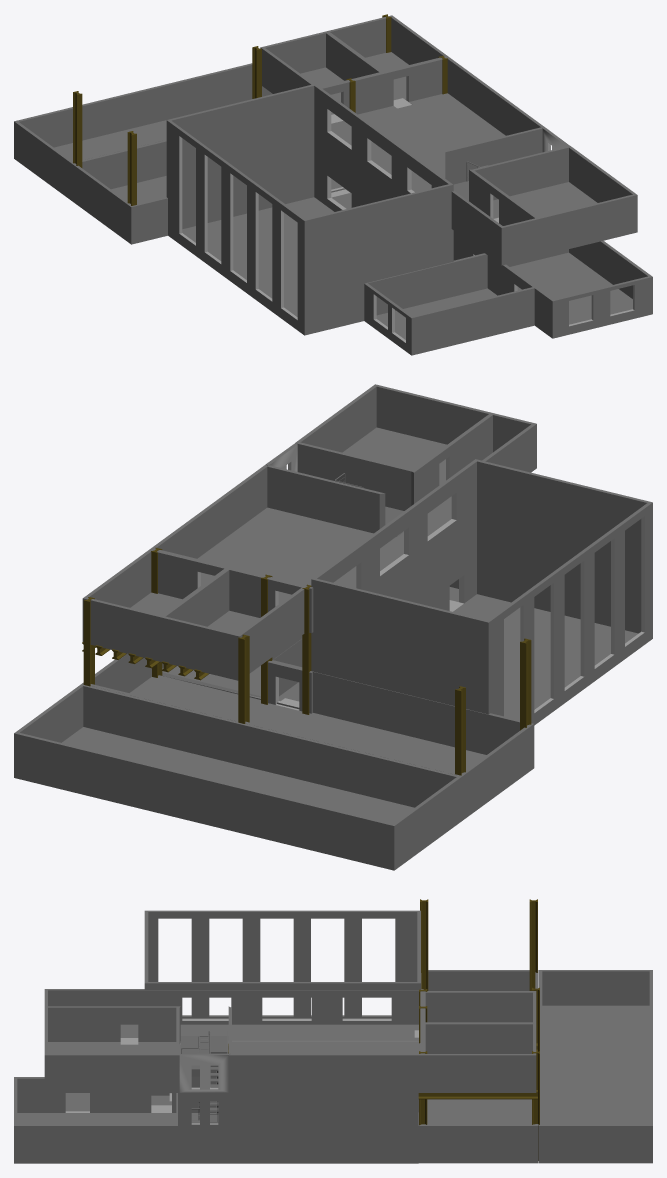
Rendered from mapa,2.fbx.
3 renders of one model, top to bottom at view 1: azimuth 30°, elevation 25°; view 2: azimuth 150°, elevation 25°; view 3: azimuth 270°, elevation 25°, orthographic. The views are drawn at different scales.
Parts seen in each view (by area): view 1: polySurface4183, polySurface4175, polySurface4169, pCube9, polySurface4177, polySurface4170, polySurface4171, polySurface4178, polySurface4173, polySurface4176, polySurface4172, pCube22 (+2 smaller); view 2: polySurface4183, pCube9, polySurface4171, polySurface4175, polySurface4177, polySurface4173, polySurface4176, polySurface4178, polySurface4172, polySurface4182, pCube21, pCube23 (+3 smaller); view 3: pCube9, polySurface4182, polySurface4183, polySurface4178, polySurface4177, polySurface4170, polySurface4175, polySurface4171, polySurface4176, polySurface4173, polySurface4181, group_3 (+6 smaller).
Part boxes in pixels (left/top/right/bottom): polySurface4183: left=166, top=84, right=453, bottom=335; polySurface4175: left=349, top=56, right=544, bottom=184; polySurface4169: left=364, top=254, right=536, bottom=355; pCube9: left=14, top=63, right=272, bottom=199; polySurface4177: left=470, top=146, right=637, bottom=256; polySurface4170: left=473, top=241, right=652, bottom=338; polySurface4171: left=71, top=140, right=345, bottom=244; polySurface4178: left=321, top=81, right=539, bottom=265; polySurface4173: left=260, top=31, right=383, bottom=119; polySurface4176: left=326, top=15, right=447, bottom=104; polySurface4172: left=328, top=177, right=485, bottom=262; pCube22: left=73, top=91, right=82, bottom=167; polySurface4183: left=311, top=459, right=652, bottom=725; pCube9: left=14, top=684, right=462, bottom=870; polySurface4171: left=82, top=653, right=534, bottom=820; polySurface4175: left=151, top=464, right=385, bottom=603; polySurface4177: left=295, top=384, right=494, bottom=510; polySurface4173: left=160, top=568, right=305, bottom=680; polySurface4176: left=82, top=548, right=228, bottom=661; polySurface4178: left=269, top=413, right=536, bottom=633; polySurface4172: left=268, top=576, right=462, bottom=713; polySurface4182: left=162, top=635, right=302, bottom=697; pCube21: left=520, top=638, right=531, bottom=730; pCube23: left=238, top=634, right=249, bottom=723; pCube9: left=539, top=970, right=652, bottom=1163; polySurface4182: left=178, top=1045, right=418, bottom=1163; polySurface4183: left=144, top=910, right=420, bottom=1094; polySurface4178: left=44, top=989, right=423, bottom=1044; polySurface4177: left=44, top=1006, right=179, bottom=1092; polySurface4170: left=14, top=1077, right=179, bottom=1163; polySurface4175: left=228, top=1006, right=423, bottom=1092; polySurface4171: left=418, top=970, right=538, bottom=1163; polySurface4176: left=422, top=1022, right=536, bottom=1092; polySurface4173: left=422, top=991, right=536, bottom=1023; polySurface4181: left=179, top=1053, right=230, bottom=1092; group_3: left=180, top=1036, right=228, bottom=1069.
Size of the model in its own units: 2700 by 924 by 4666.
